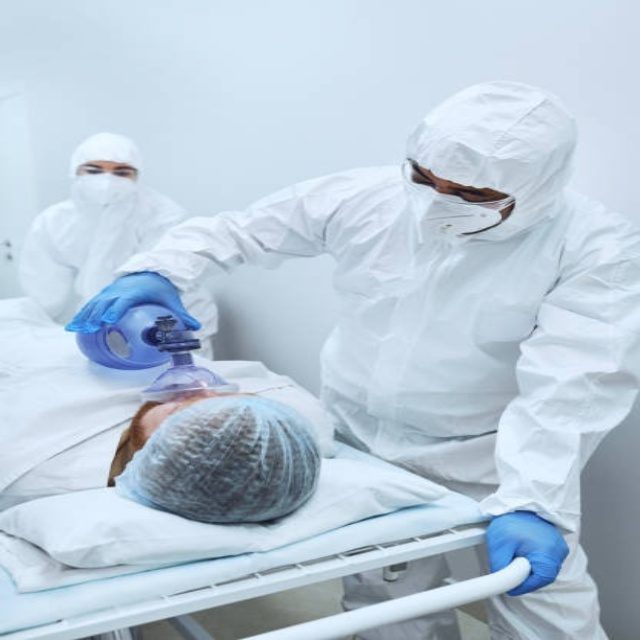Gafas: (404, 158, 519, 209), (78, 165, 136, 179)
Guantes: (67, 272, 199, 336), (485, 511, 567, 597)
Mascara: (139, 319, 236, 403), (406, 166, 515, 238), (73, 173, 140, 208)
